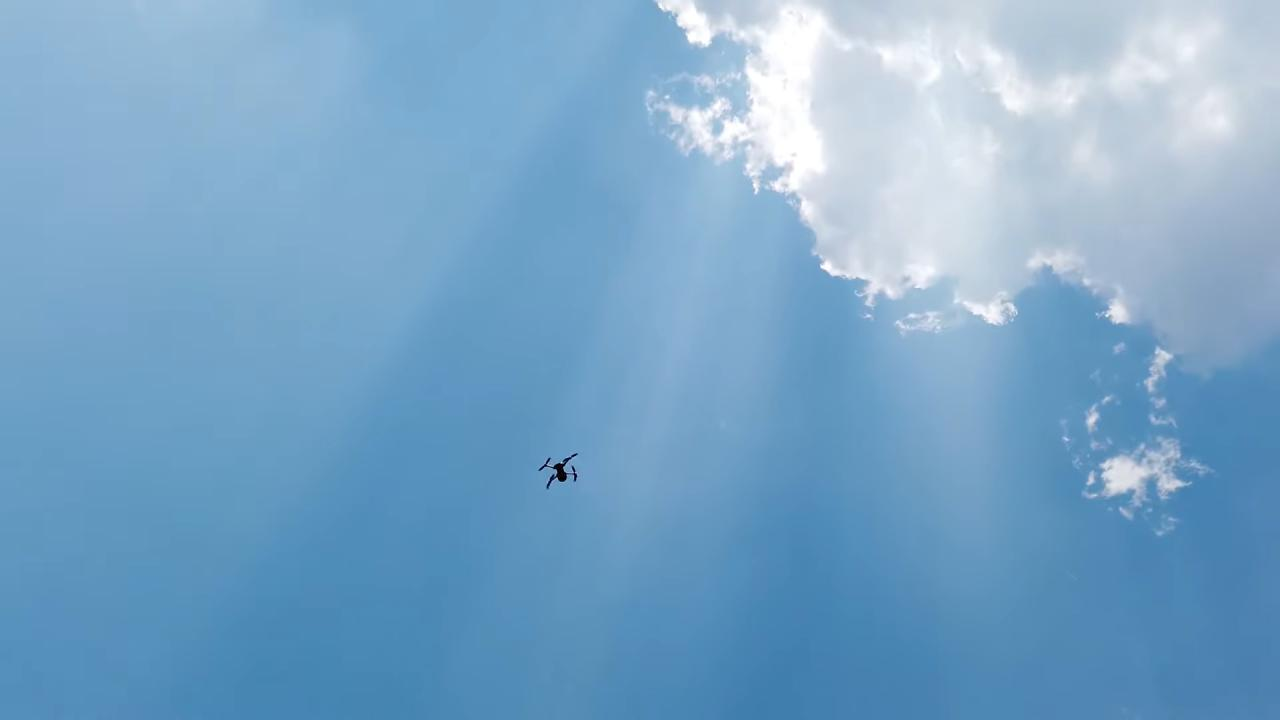Drone: (532, 443, 588, 499)
